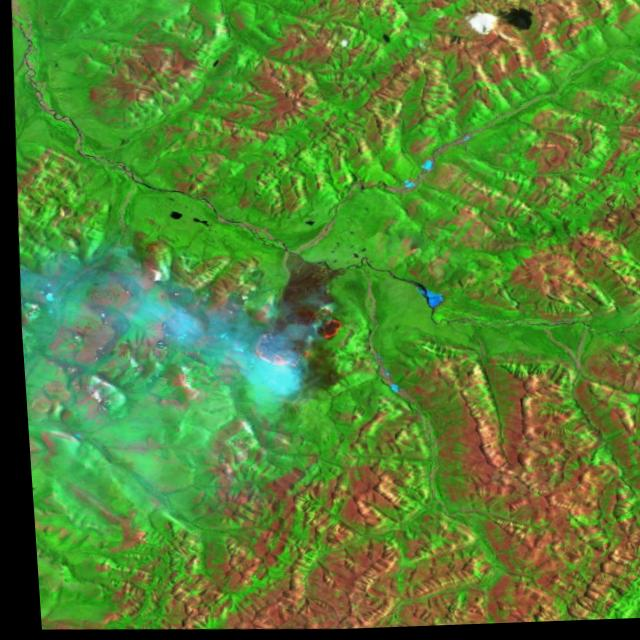fire: (240, 300, 346, 374)
